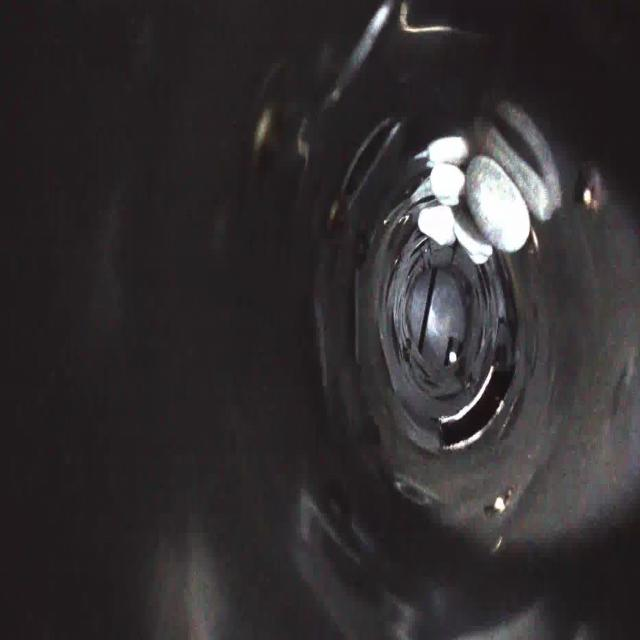crack: (377, 294, 403, 362), (475, 256, 495, 317)
hole: (437, 358, 519, 454)
